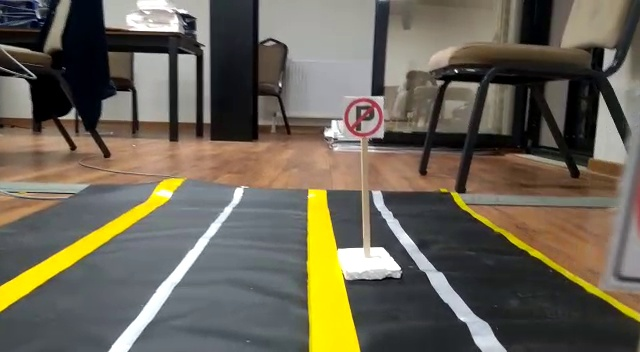park_yapilmaz: (343, 95, 385, 141)
